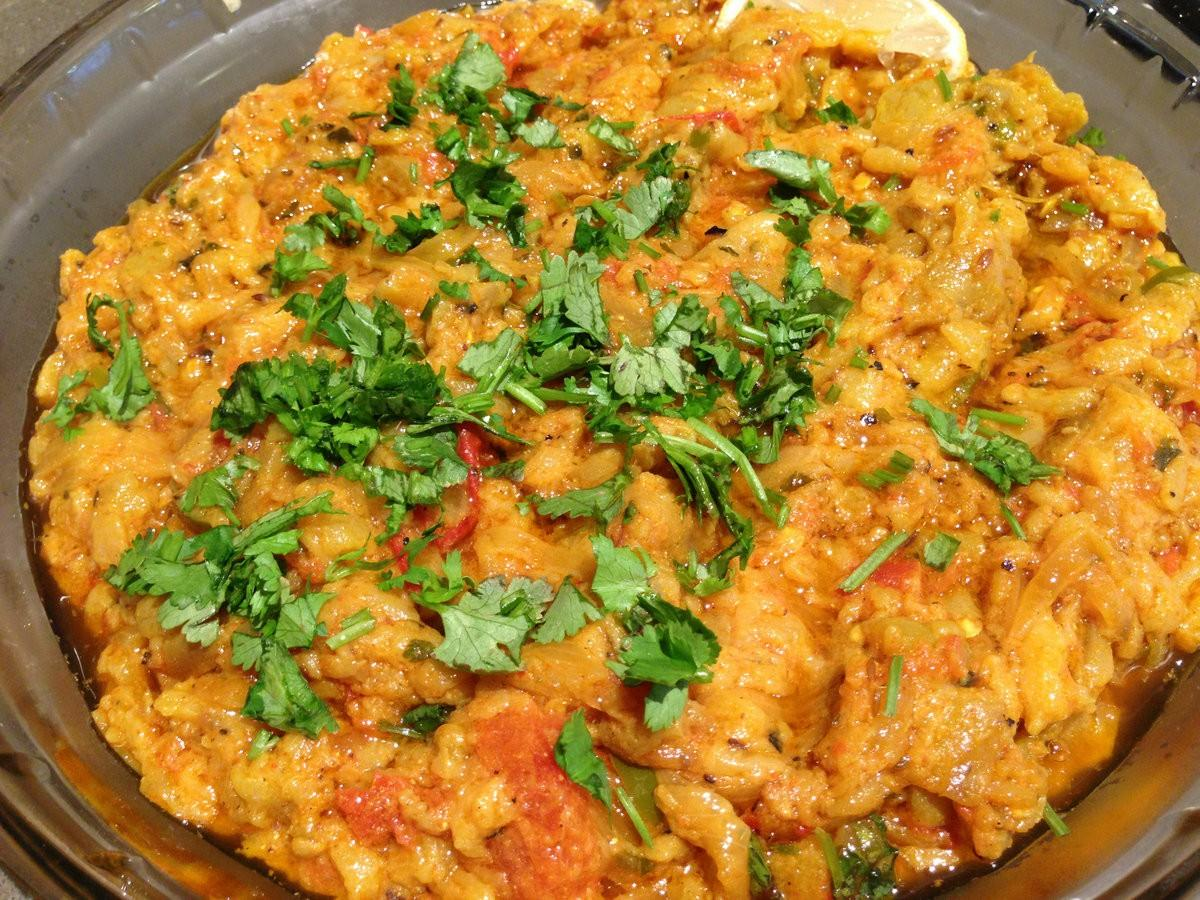AlooGobi: (29, 0, 1200, 900)
